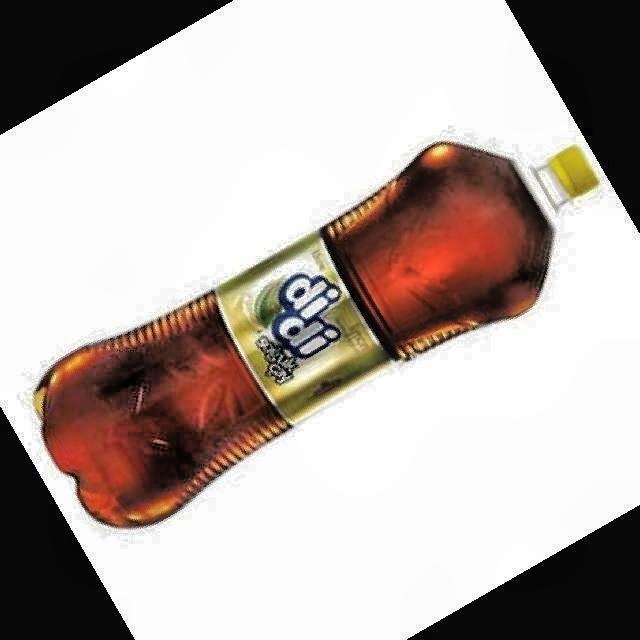plastic: (34, 143, 597, 526)
